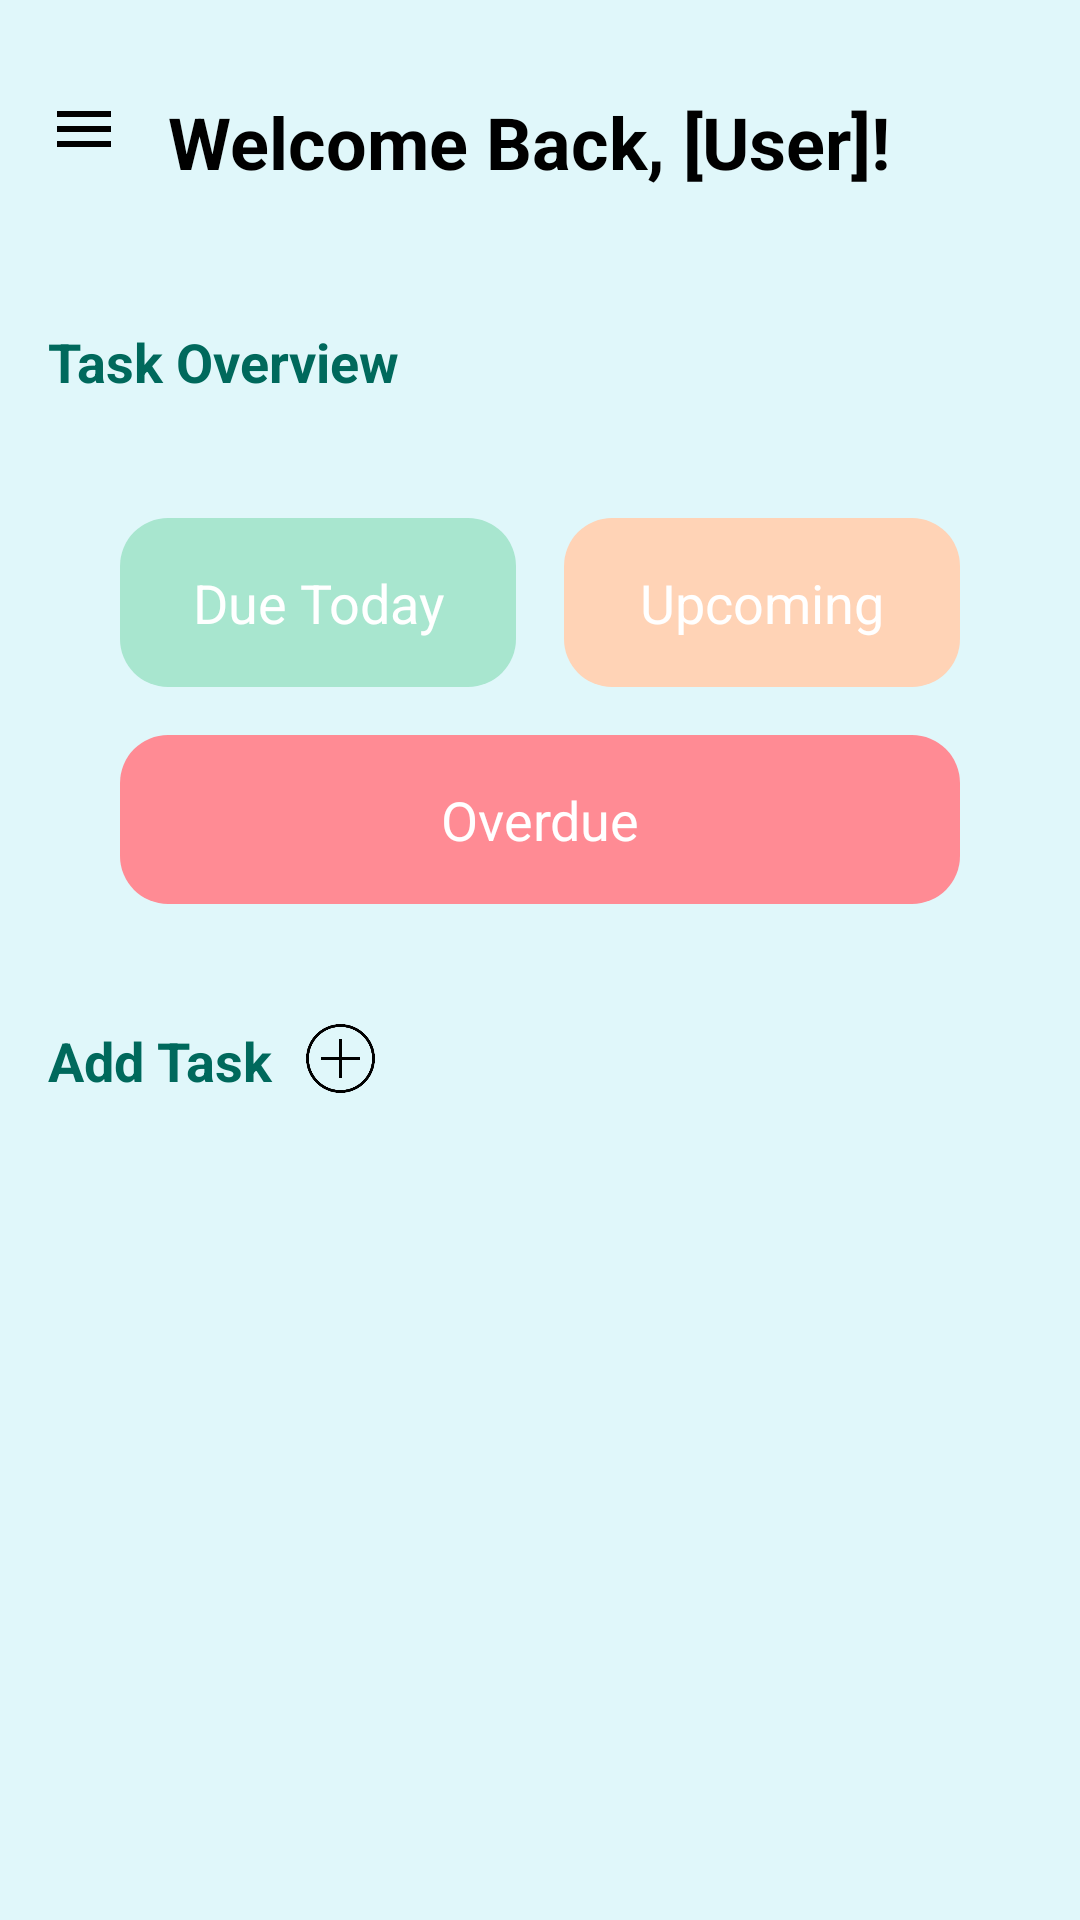

Icon bounding boxes for this 1080 x 1920 phone screenshot, format [left=x1, top=y1, right=x2, bottom=y2]:
menu: [left=57, top=111, right=111, bottom=147]
plus: [left=306, top=1024, right=375, bottom=1093]
